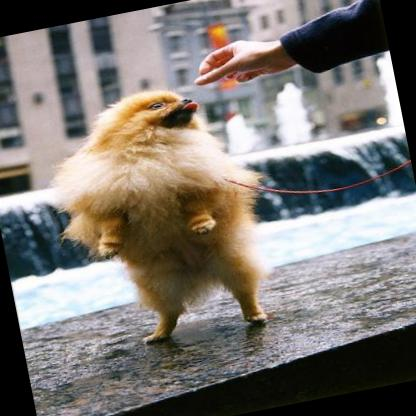Pomeranian: (29, 71, 286, 358)
